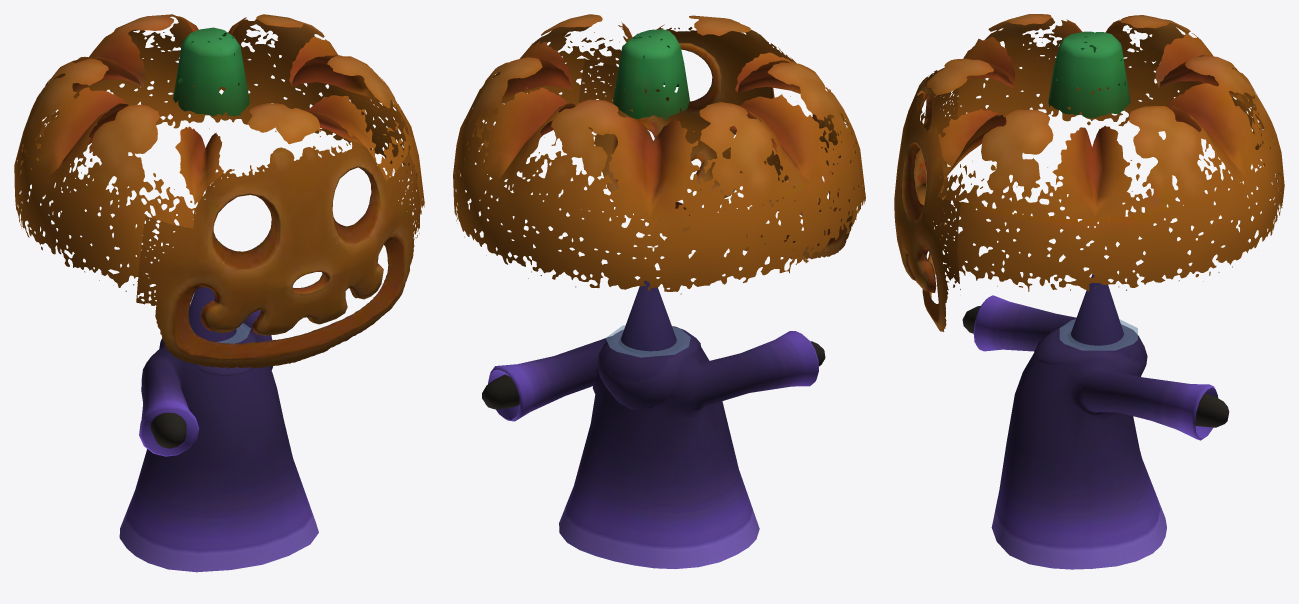
Rendered from jack.glb.
The picture shows the model from 3 angles, left to right: view 1: azimuth 30°, elevation 25°; view 2: azimuth 150°, elevation 25°; view 3: azimuth 270°, elevation 25°; orthographic projection.
Bounding box in the file's own units: 9.18 × 13.61 × 9.06.
4 materials, 3 textured.
